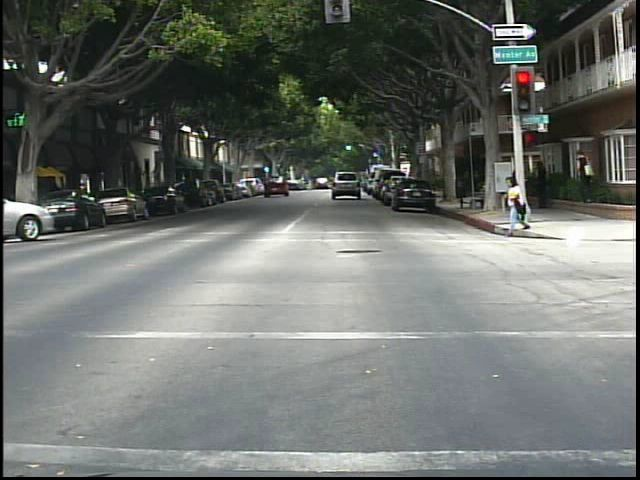person: (497, 170, 532, 238), (571, 145, 599, 204), (535, 155, 557, 212)
